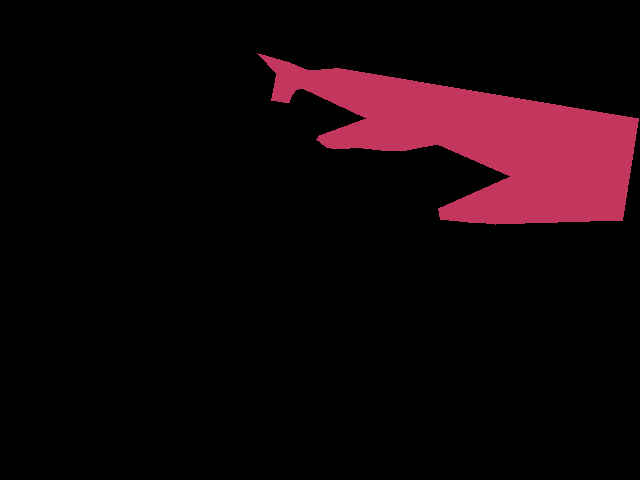Airplane: (257, 53, 639, 224)
